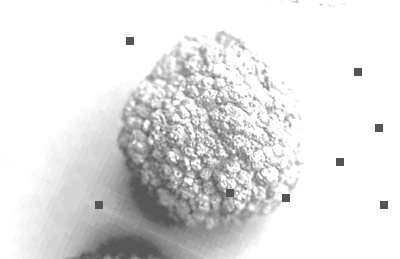halobolite: (76, 0, 352, 259)
